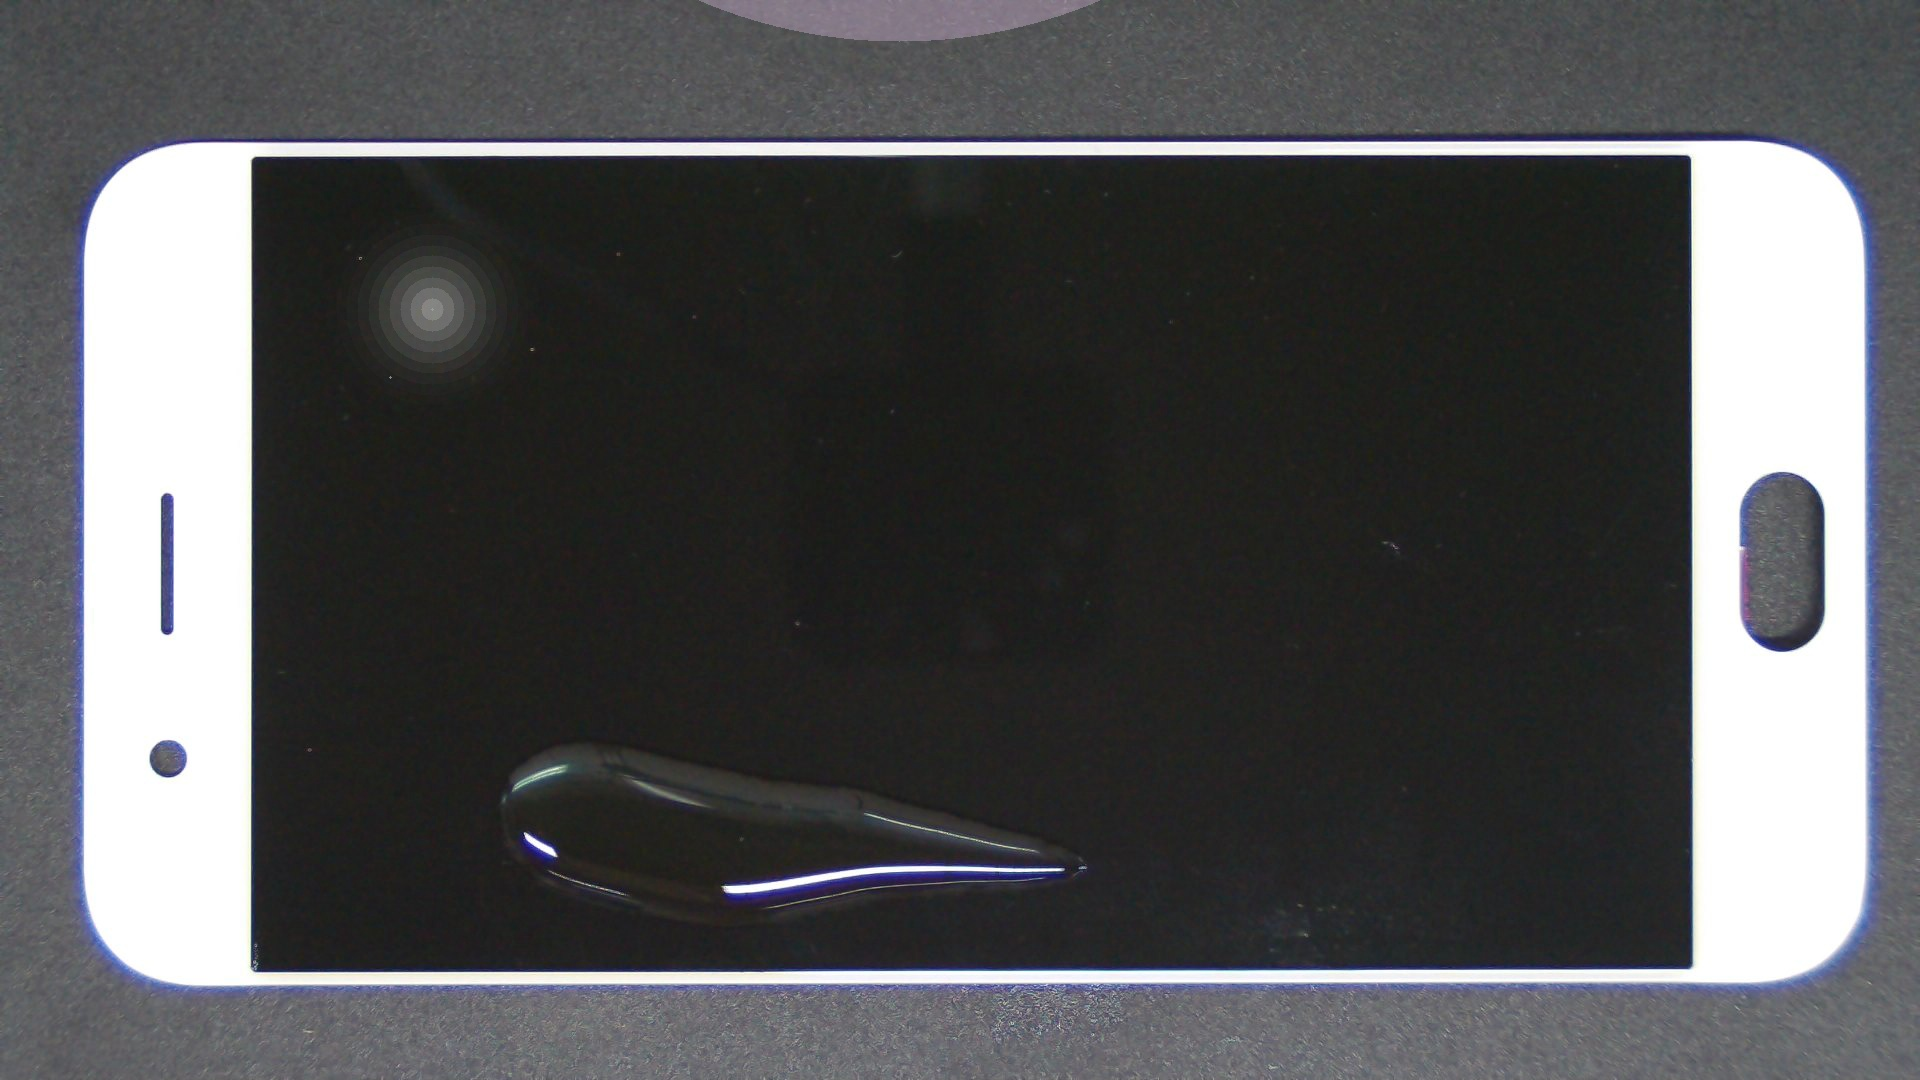oil: (293, 371, 877, 1080)
